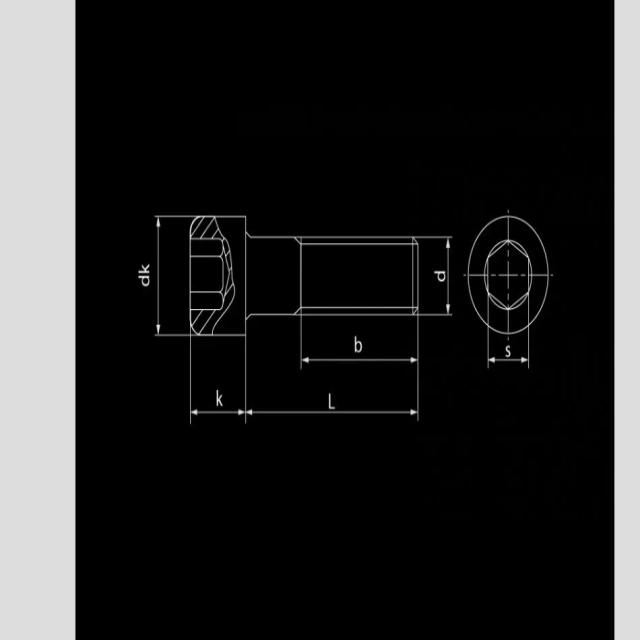marking_line: (185, 339, 419, 425), (242, 338, 421, 425), (299, 317, 423, 371), (187, 338, 251, 426), (155, 215, 189, 340), (420, 234, 455, 318), (485, 336, 532, 369)
